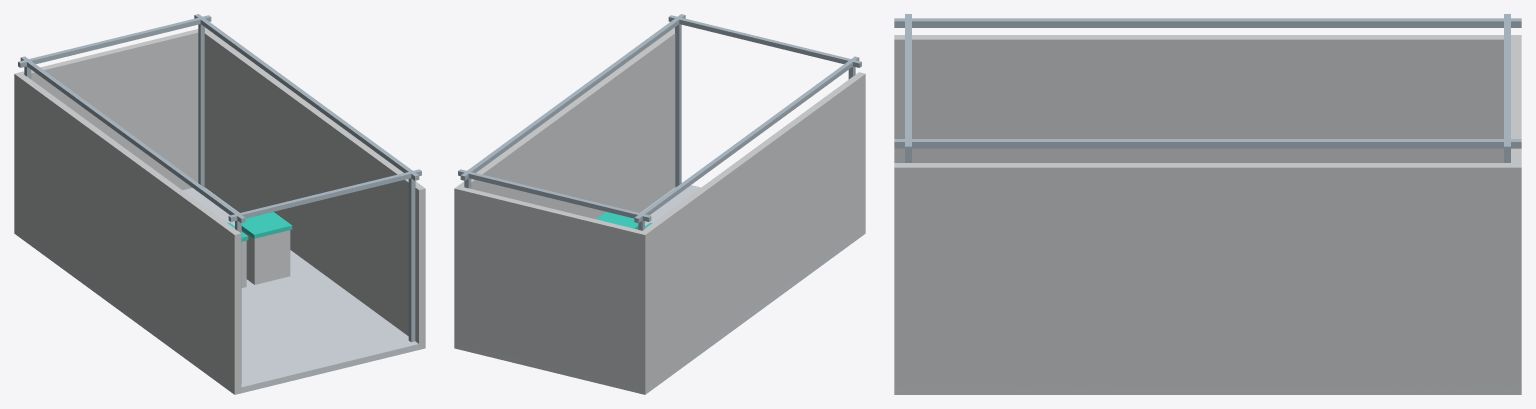
3 renders of one model, left to right at view 1: azimuth 30°, elevation 25°; view 2: azimuth 150°, elevation 25°; view 3: azimuth 270°, elevation 25°, orthographic. The views are drawn at different scales.
Visible parts, largest first — view 1: Exhibition Booth Concept; view 2: Exhibition Booth Concept; view 3: Exhibition Booth Concept.
Boxes of the visible parts, x1,y1,x2,y2 form: Exhibition Booth Concept: (14,14,425,394); Exhibition Booth Concept: (454,14,865,394); Exhibition Booth Concept: (894,14,1521,394).
Bounding box in the file's own units: 4 × 3.49 × 8.
